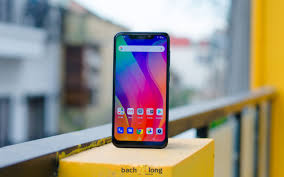vsmart: (109, 30, 174, 152)
